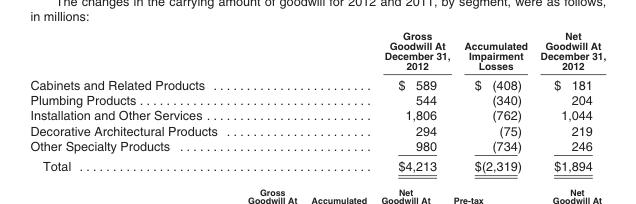table: (29, 28, 605, 172)
table column: (29, 28, 300, 172), (300, 28, 456, 172), (456, 28, 533, 172), (533, 28, 605, 172)
table column header: (29, 28, 605, 74)
table row: (29, 28, 605, 74), (29, 74, 605, 92), (29, 137, 605, 155), (29, 155, 605, 172), (29, 92, 605, 107), (29, 107, 605, 122), (29, 122, 605, 137)
